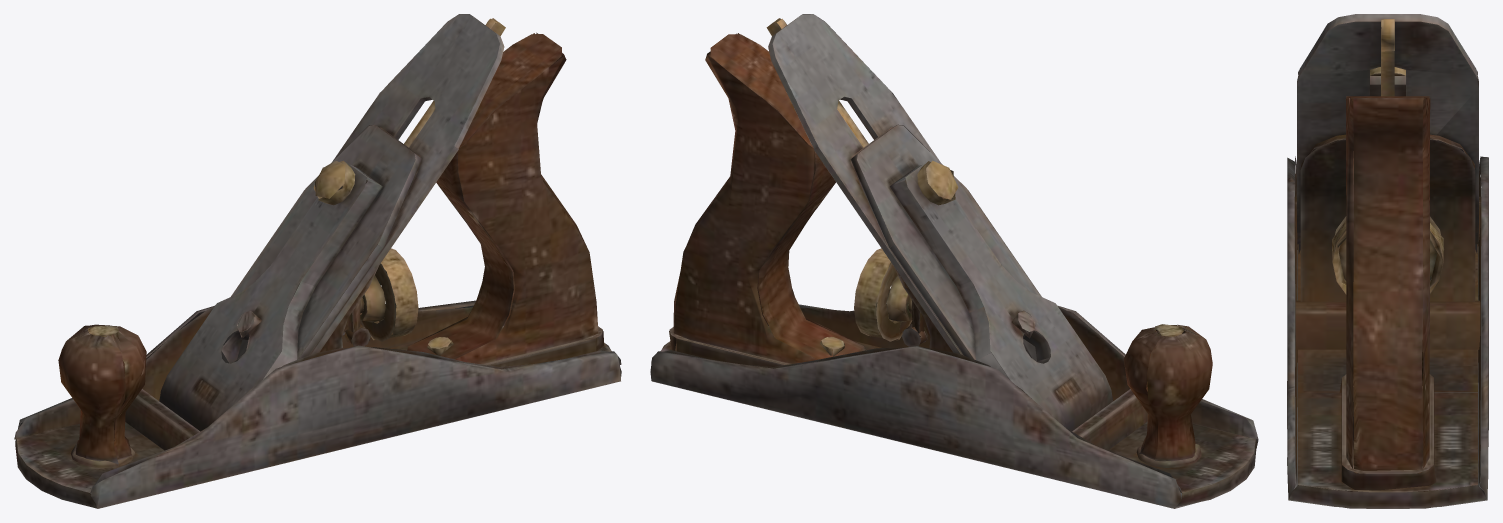
The model's file is hand_plane.glb.
3 renders of one model, left to right at view 1: azimuth 30°, elevation 25°; view 2: azimuth 150°, elevation 25°; view 3: azimuth 270°, elevation 25°, orthographic. The views are drawn at different scales.
Visible parts, largest first — view 1: hand_plane_no4; view 2: hand_plane_no4; view 3: hand_plane_no4.
Boxes of the visible parts, <box> form: hand_plane_no4: <box>14,14,621,508</box>; hand_plane_no4: <box>650,14,1258,508</box>; hand_plane_no4: <box>1287,14,1488,508</box>.
Bounding box in the file's own units: 0.33 × 0.1984 × 0.0843.
1 material, 1 textured.
